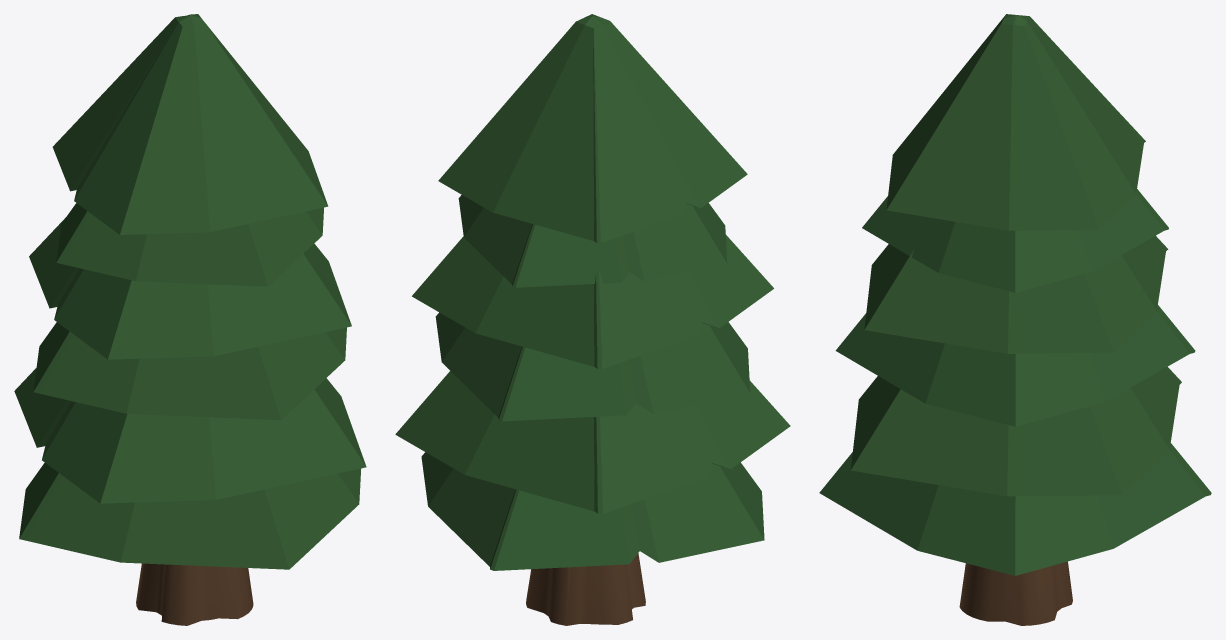
The model's file is tree.glb.
3 views of the same model, side by side, from view 1: azimuth 30°, elevation 25°; view 2: azimuth 150°, elevation 25°; view 3: azimuth 270°, elevation 25° (orthographic).
Visible parts, largest first — view 1: Cone.185, Cone.189, Cone.190, Cone.188, Cone.187, Cone.186, Cylinder.029; view 2: Cone.185, Cone.189, Cone.188, Cone.190, Cone.187, Cone.186, Cylinder.029; view 3: Cone.185, Cone.189, Cone.190, Cone.188, Cone.187, Cone.186, Cylinder.029.
Part boxes in pixels (x1=…): Cone.185: x1=52, y1=14, x2=328, y2=234; Cone.189: x1=14, y1=368, x2=366, y2=503; Cone.190: x1=19, y1=463, x2=361, y2=569; Cone.188: x1=29, y1=217, x2=351, y2=359; Cone.187: x1=33, y1=322, x2=346, y2=420; Cone.186: x1=56, y1=203, x2=323, y2=286; Cylinder.029: x1=136, y1=563, x2=253, y2=625; Cone.185: x1=438, y1=14, x2=747, y2=242; Cone.189: x1=395, y1=371, x2=790, y2=513; Cone.188: x1=412, y1=234, x2=773, y2=368; Cone.190: x1=421, y1=452, x2=764, y2=570; Cone.187: x1=435, y1=312, x2=750, y2=421; Cone.186: x1=458, y1=195, x2=727, y2=287; Cylinder.029: x1=526, y1=553, x2=645, y2=625; Cone.185: x1=886, y1=14, x2=1145, y2=230; Cone.189: x1=850, y1=367, x2=1181, y2=496; Cone.190: x1=819, y1=443, x2=1211, y2=575; Cone.188: x1=864, y1=235, x2=1168, y2=353; Cone.187: x1=835, y1=305, x2=1195, y2=426; Cone.186: x1=862, y1=189, x2=1168, y2=292; Cylinder.029: x1=959, y1=561, x2=1072, y2=625.
Size of the model in its own units: 2.02 by 3.3 by 2.02.
